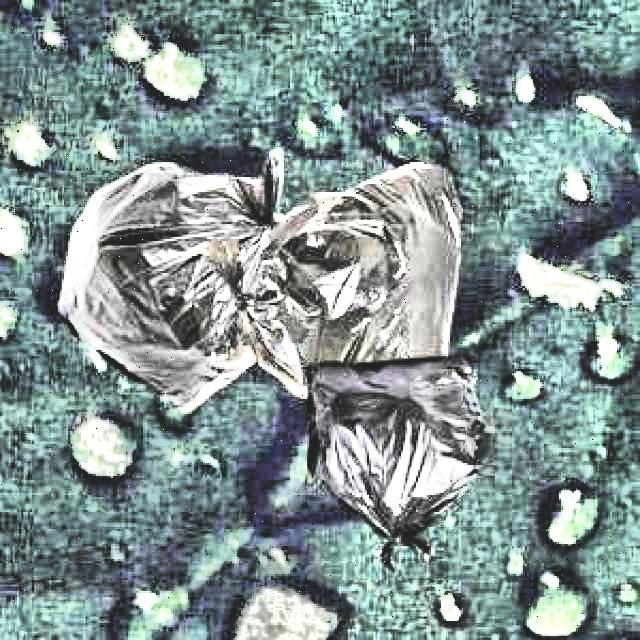Trashbag: (52, 156, 308, 416), (282, 156, 478, 390), (317, 357, 488, 533)
